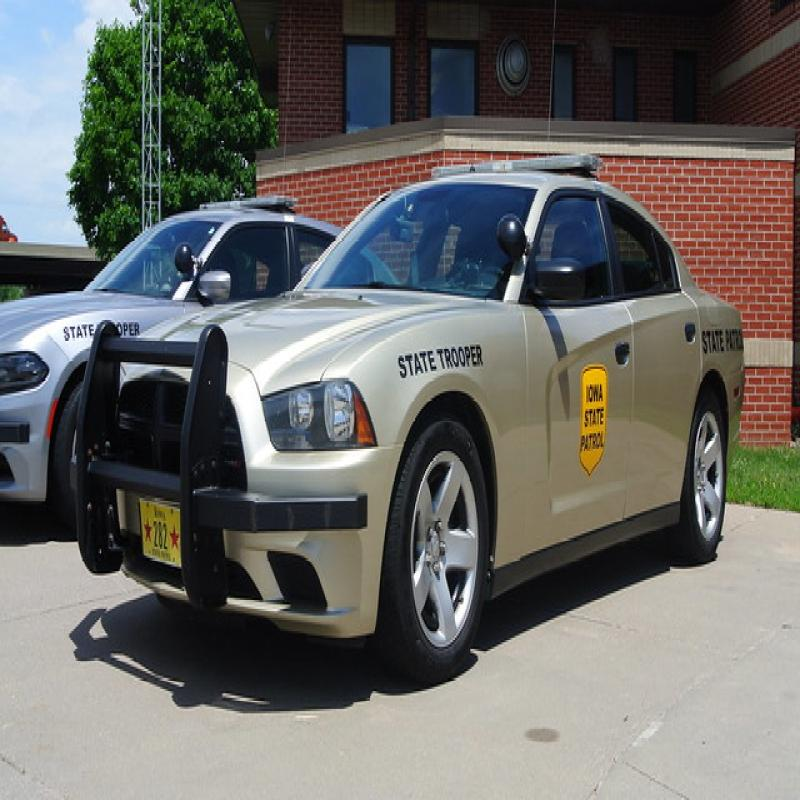AmbulanceSiren: (422, 130, 606, 196)
